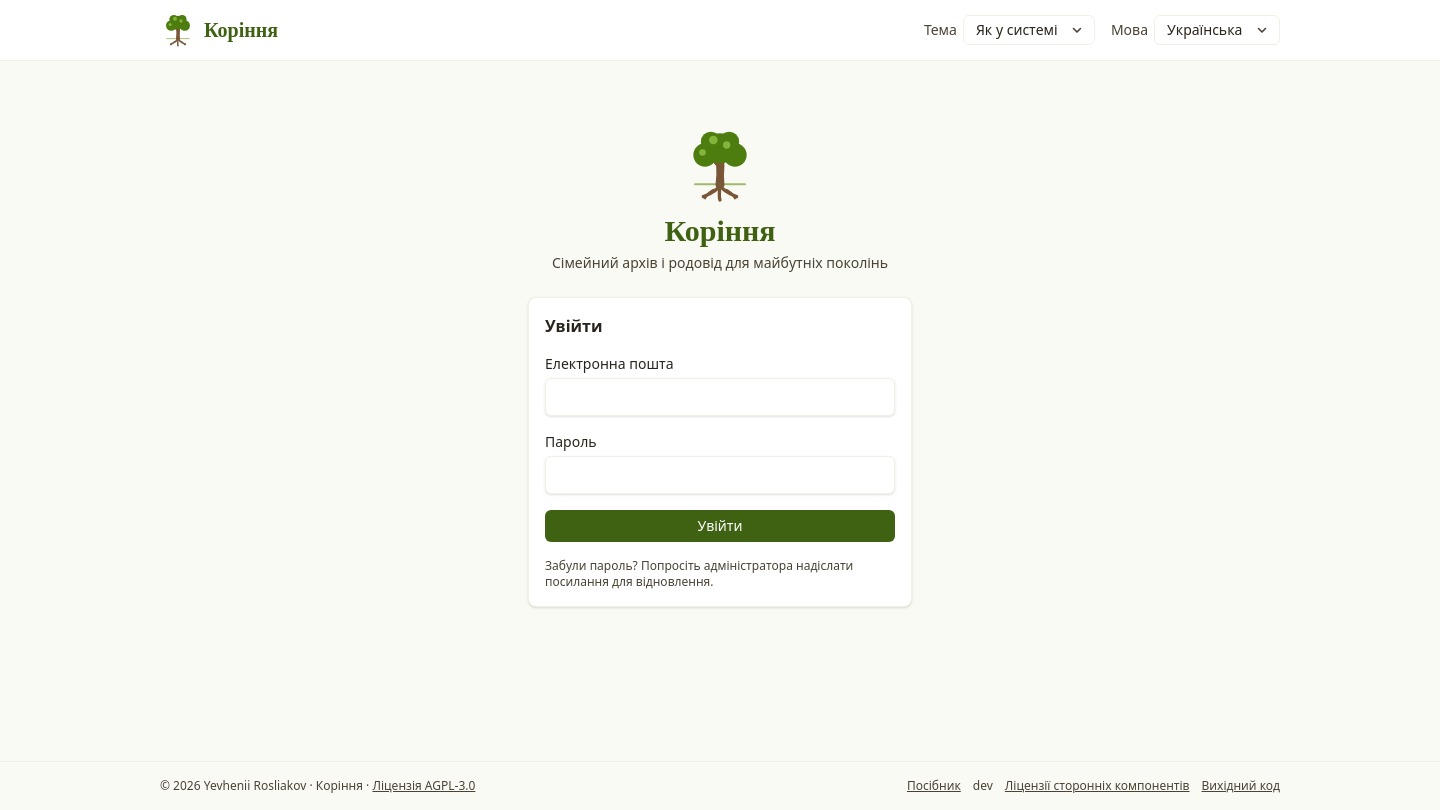
Test case: App › shows a translated error for wrong credentials
The width and height of the screenshot is (1440, 810).
Type "a@b.cz" into the field labelled "Електронна пошта" at (720, 397), box left=545, top=378, right=895, bottom=416
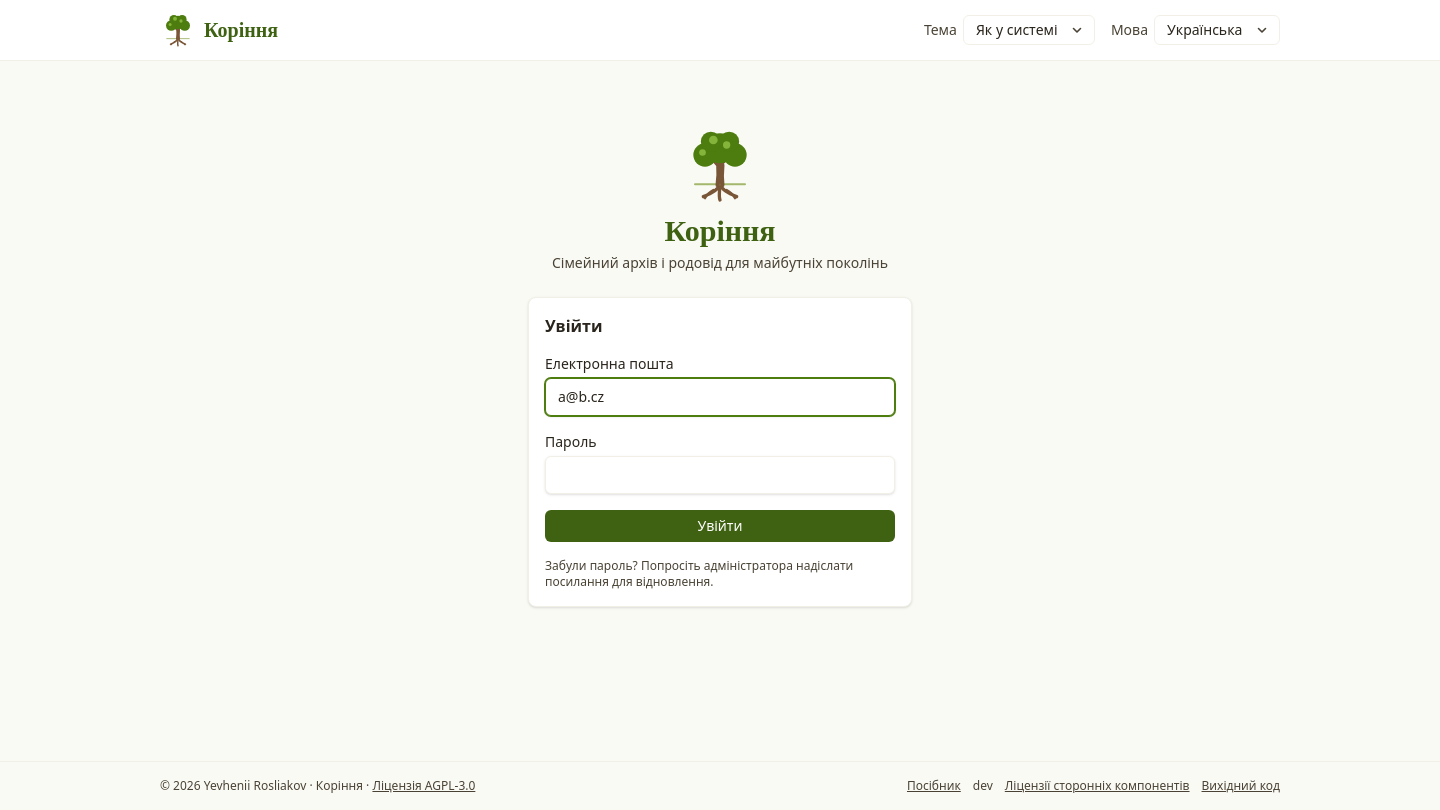
Type "x" into the password field labelled "Пароль" at (720, 475), box left=545, top=456, right=895, bottom=494
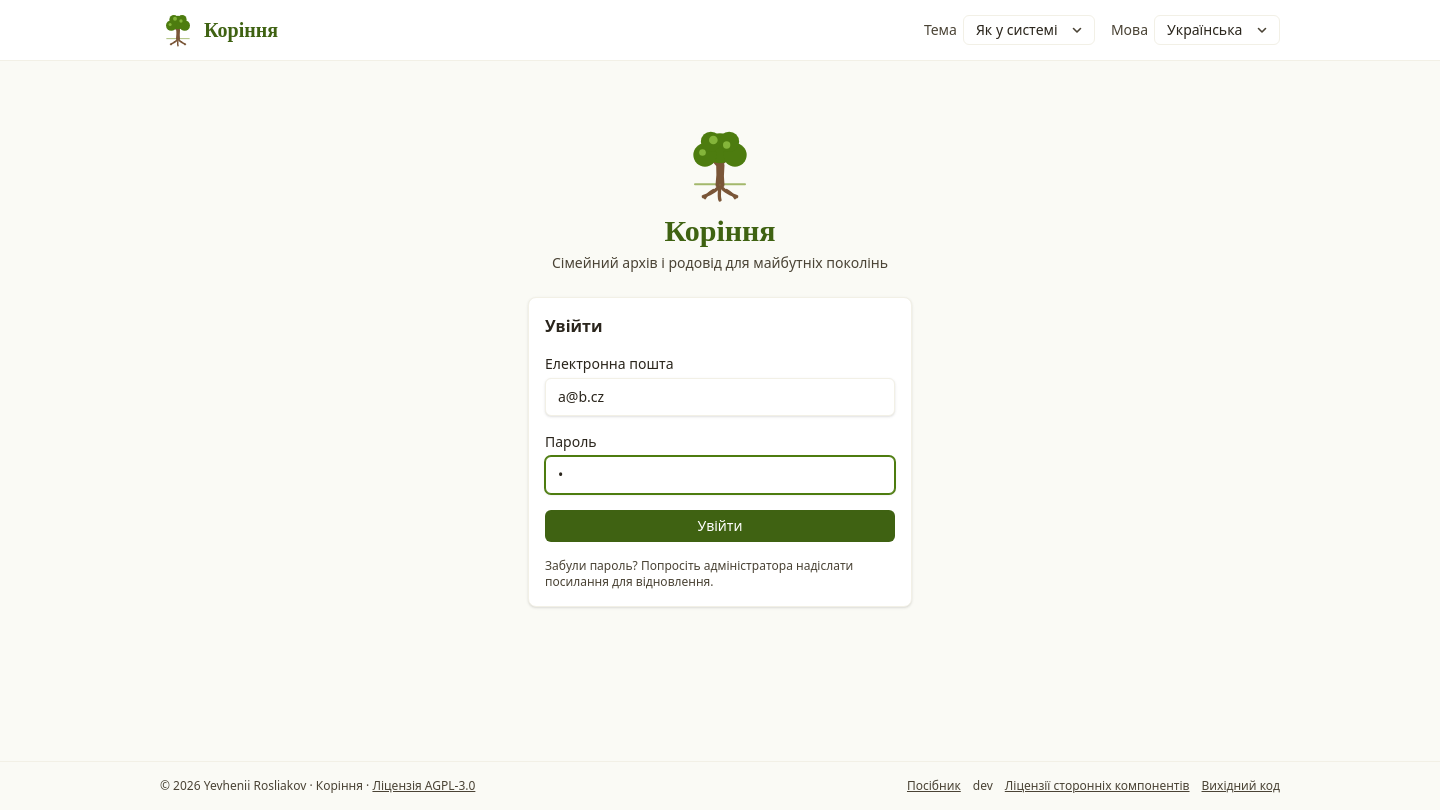
Click the button "Увійти" at (720, 526), box left=545, top=510, right=895, bottom=542
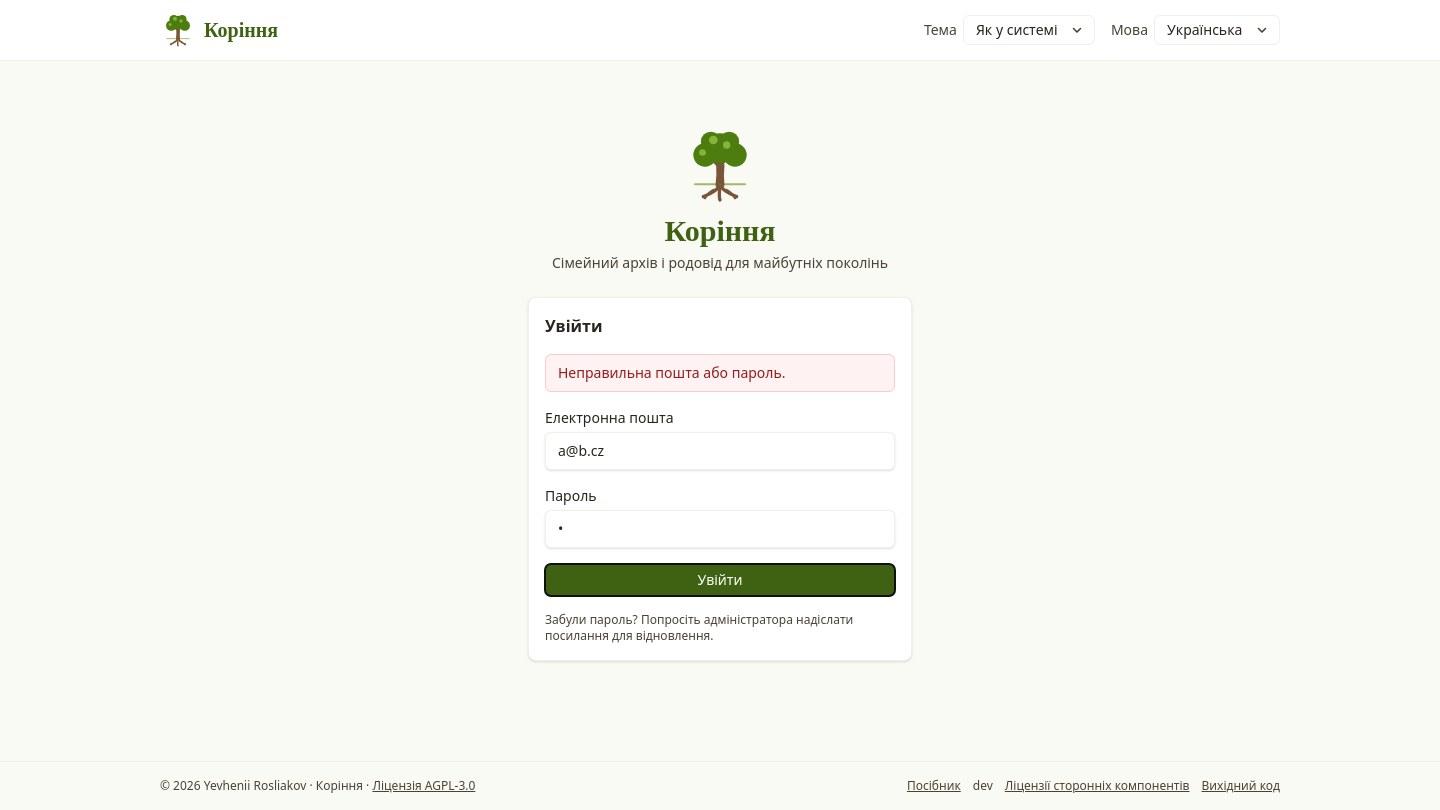
Now the message reads "Неправильна пошта або пароль.", box left=558, top=363, right=786, bottom=382
